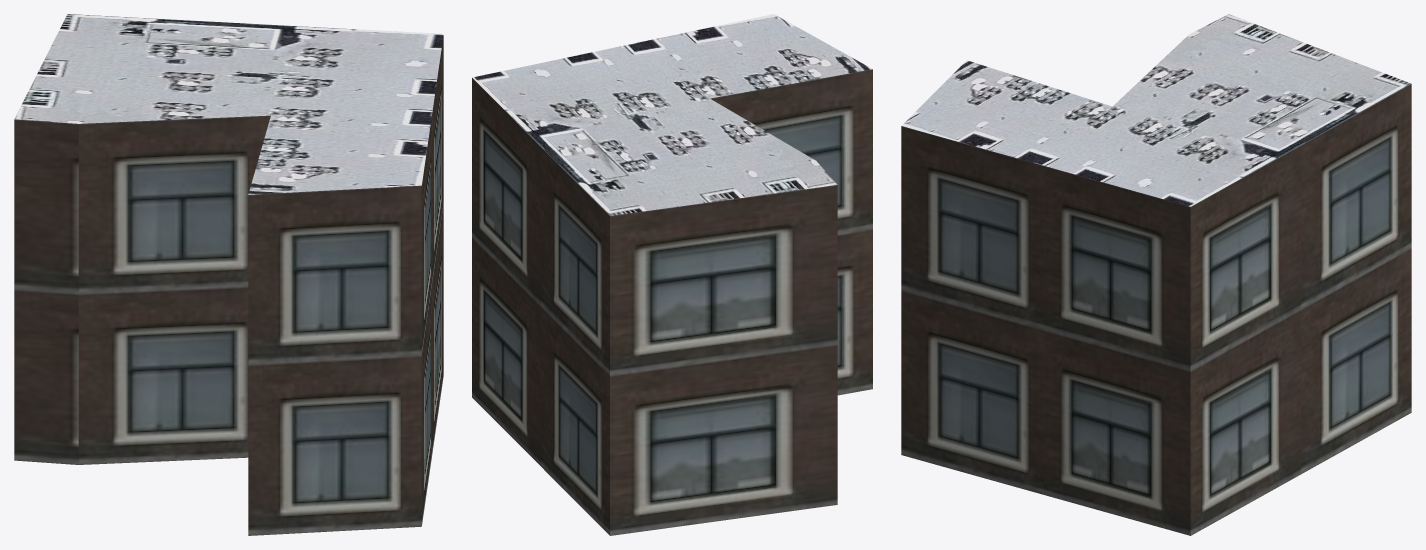
The model's file is ResTex__3300.fbx.
The picture shows the model from 3 angles, left to right: view 1: azimuth 30°, elevation 25°; view 2: azimuth 150°, elevation 25°; view 3: azimuth 270°, elevation 25°; orthographic projection. The views are drawn at different scales.
Parts seen in each view (by area): view 1: CityEngineMaterial_16_m, CityEngineMaterial_15_m; view 2: CityEngineMaterial_16_m, CityEngineMaterial_15_m; view 3: CityEngineMaterial_16_m, CityEngineMaterial_15_m.
Boxes of the visible parts, bbox=[...] form: CityEngineMaterial_16_m: bbox=[14, 36, 443, 535]; CityEngineMaterial_15_m: bbox=[14, 14, 443, 194]; CityEngineMaterial_16_m: bbox=[472, 69, 872, 535]; CityEngineMaterial_15_m: bbox=[472, 14, 872, 215]; CityEngineMaterial_16_m: bbox=[901, 84, 1411, 535]; CityEngineMaterial_15_m: bbox=[902, 14, 1410, 206].
Bounding box in the file's own units: 7.54 × 6 × 8.43.
2 materials, 2 textured.
